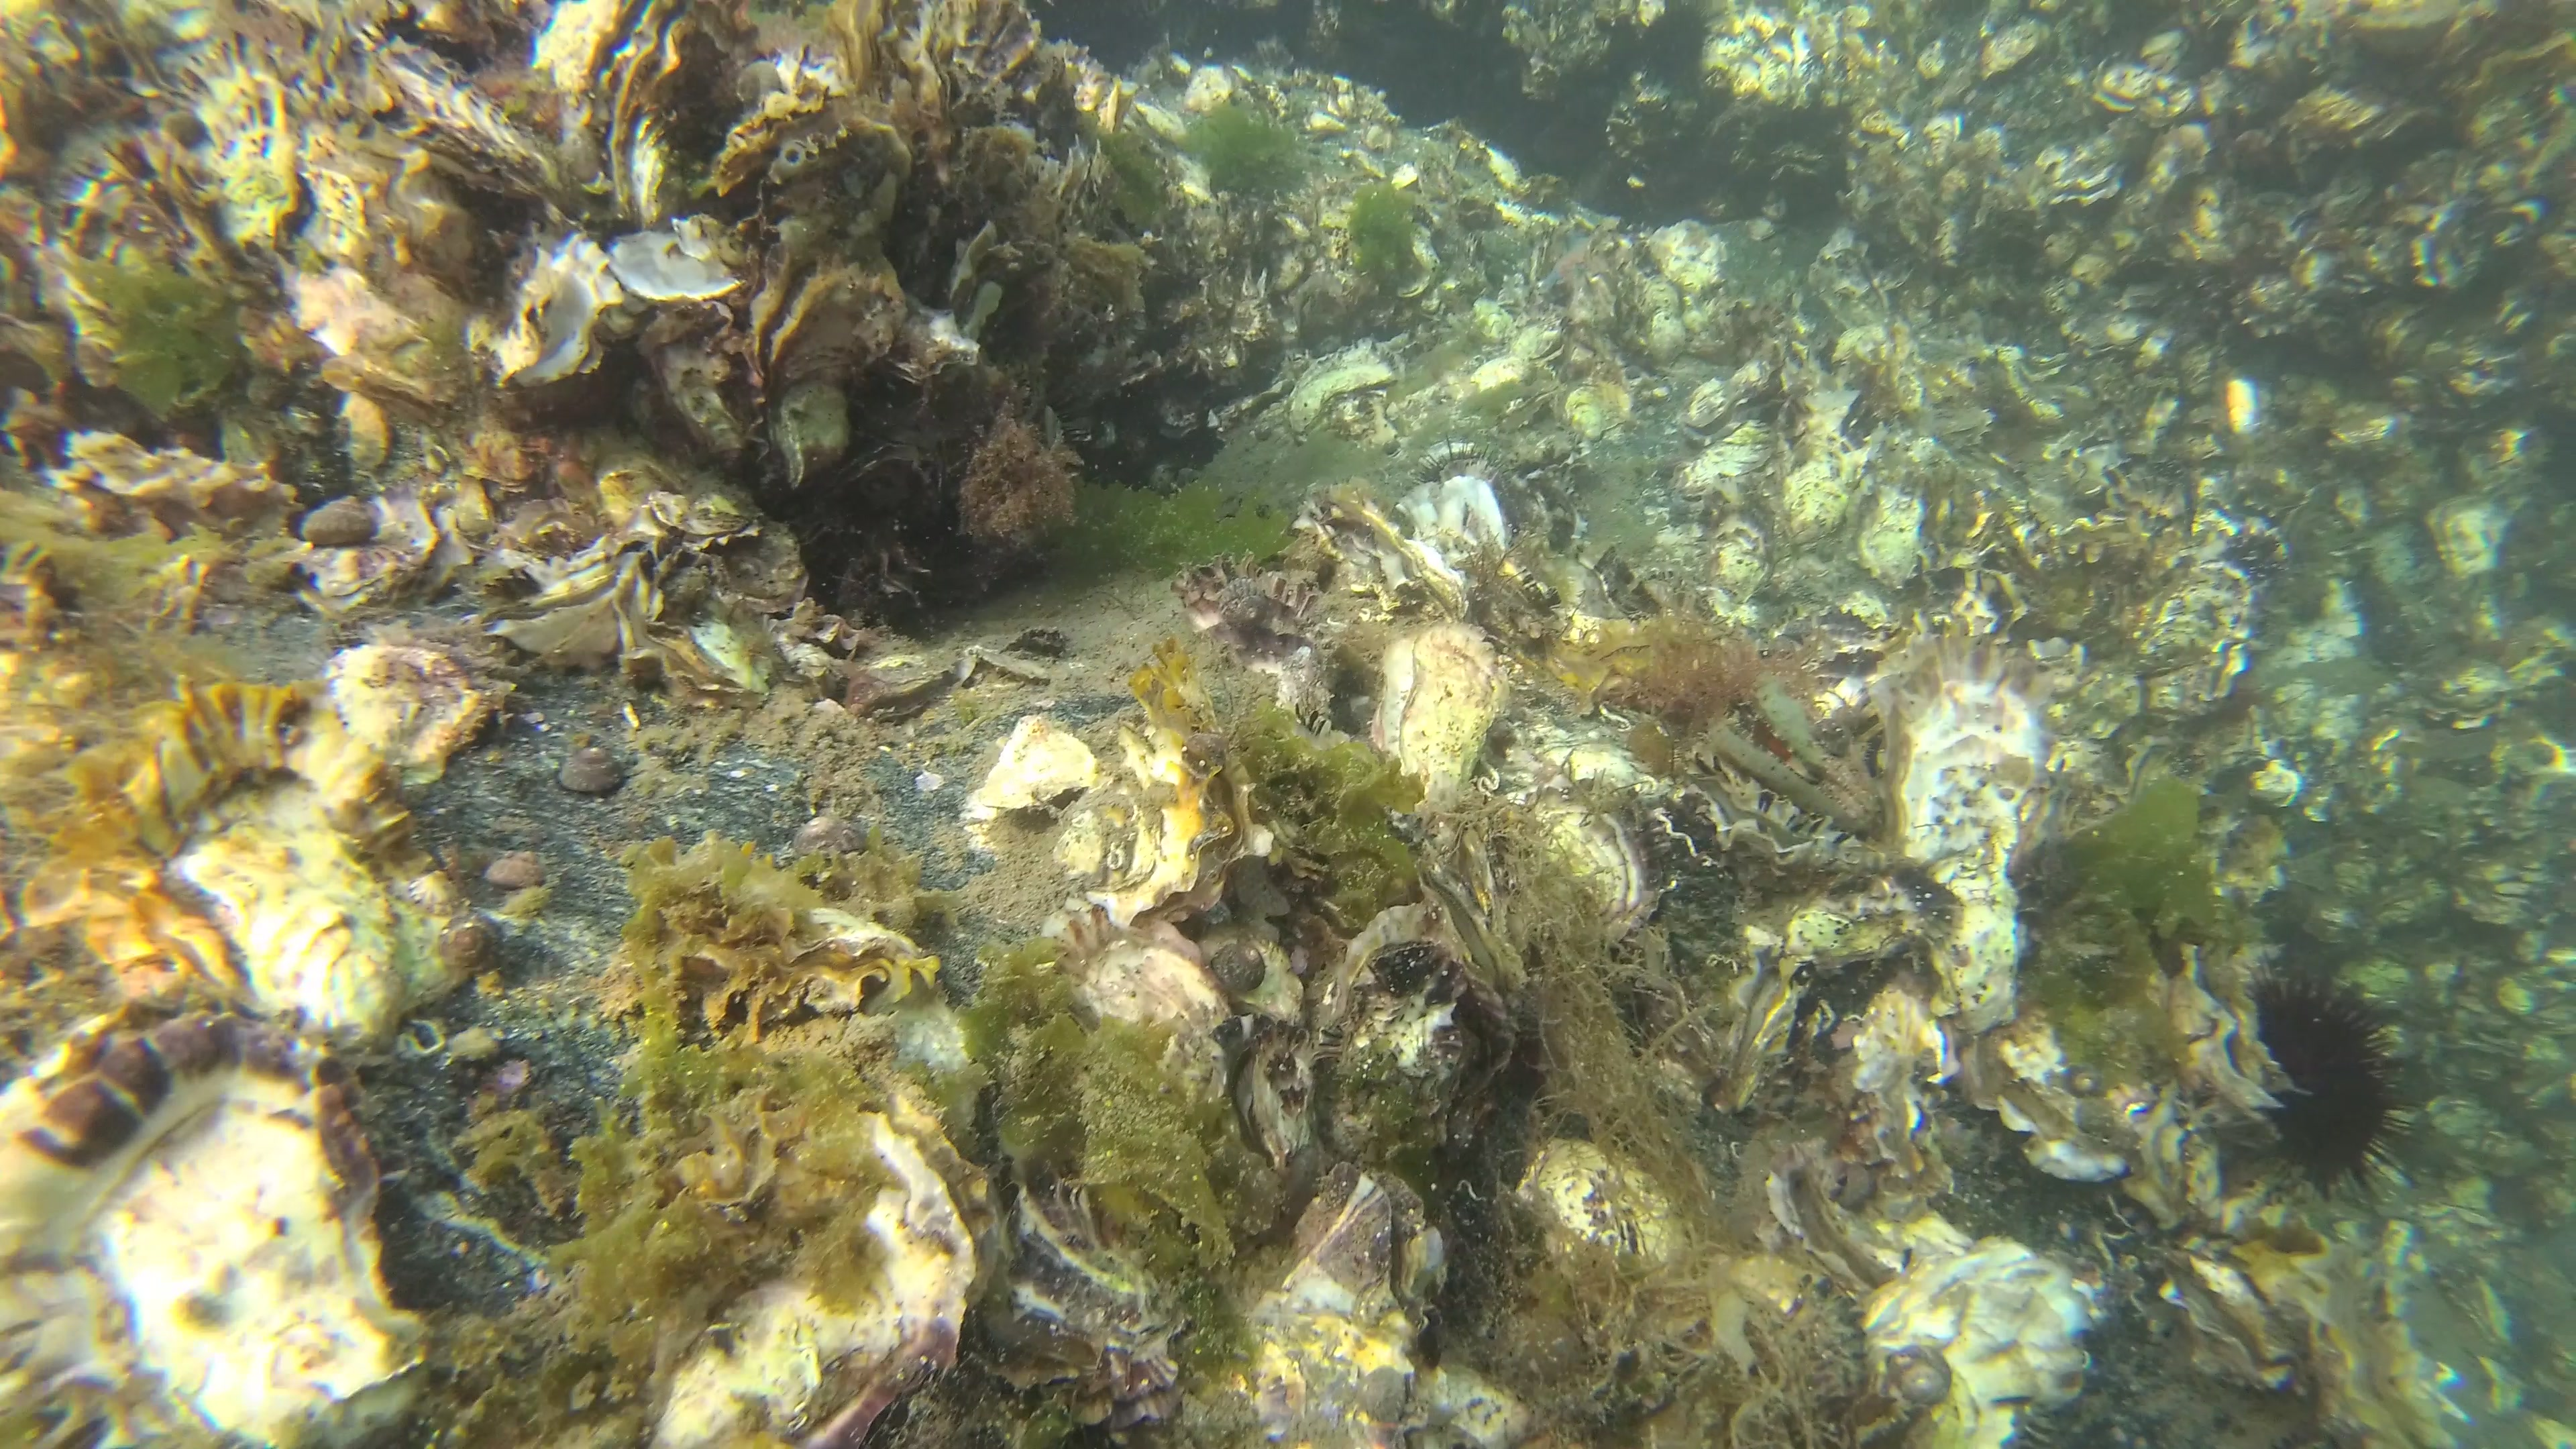echinus: (2245, 973, 2403, 1200), (1638, 4, 1707, 83)
starfish: (1530, 230, 1640, 299)
